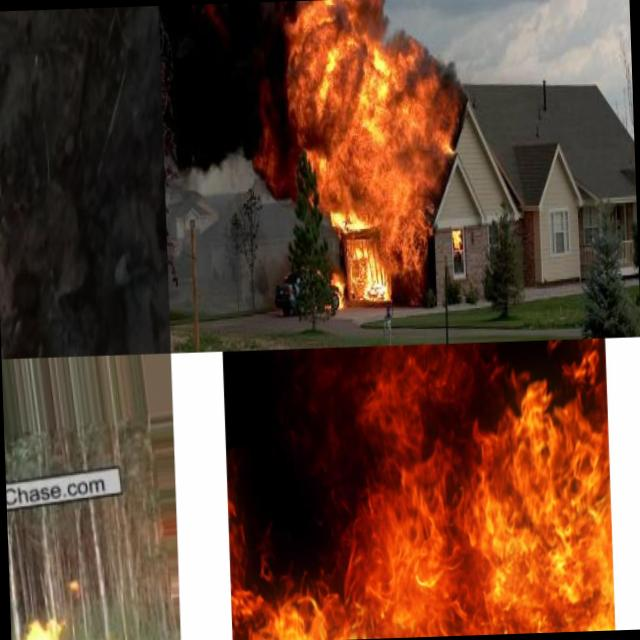fire: (227, 337, 614, 640), (283, 0, 464, 307), (10, 614, 66, 640), (104, 628, 126, 640)
smoke: (159, 1, 290, 192)
